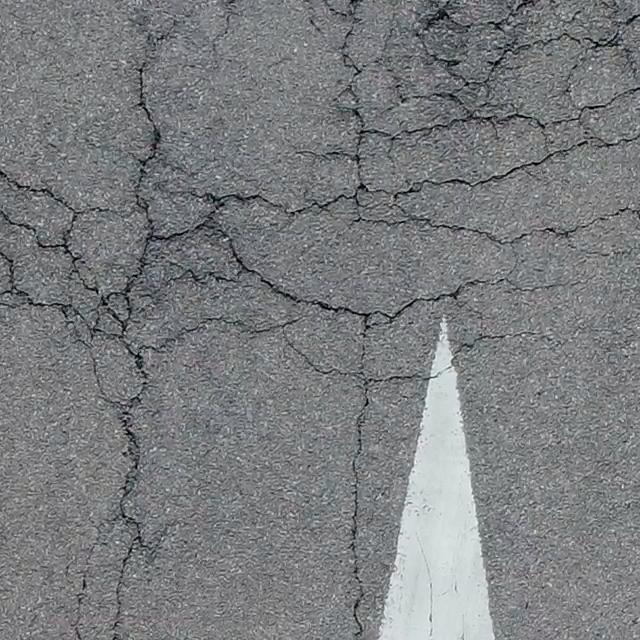GRIETA: (350, 388, 370, 639)
PIEL DE COCODRILO: (0, 0, 639, 639)
